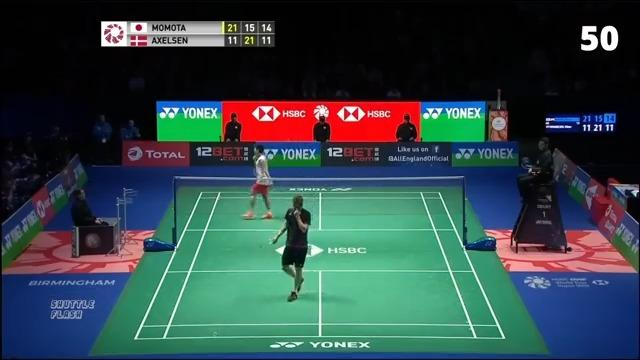Shuttlecock: (212, 330, 220, 338)
